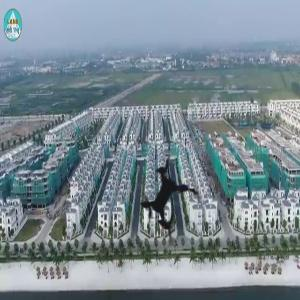drone: (101, 134, 235, 268)
